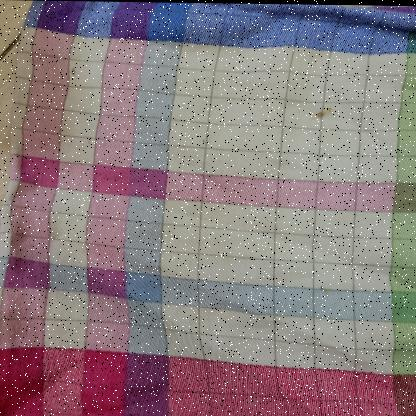spot: (304, 101, 332, 121), (303, 279, 332, 295), (62, 64, 82, 80), (196, 134, 208, 144), (162, 102, 174, 109), (188, 77, 198, 83), (86, 138, 94, 145)
